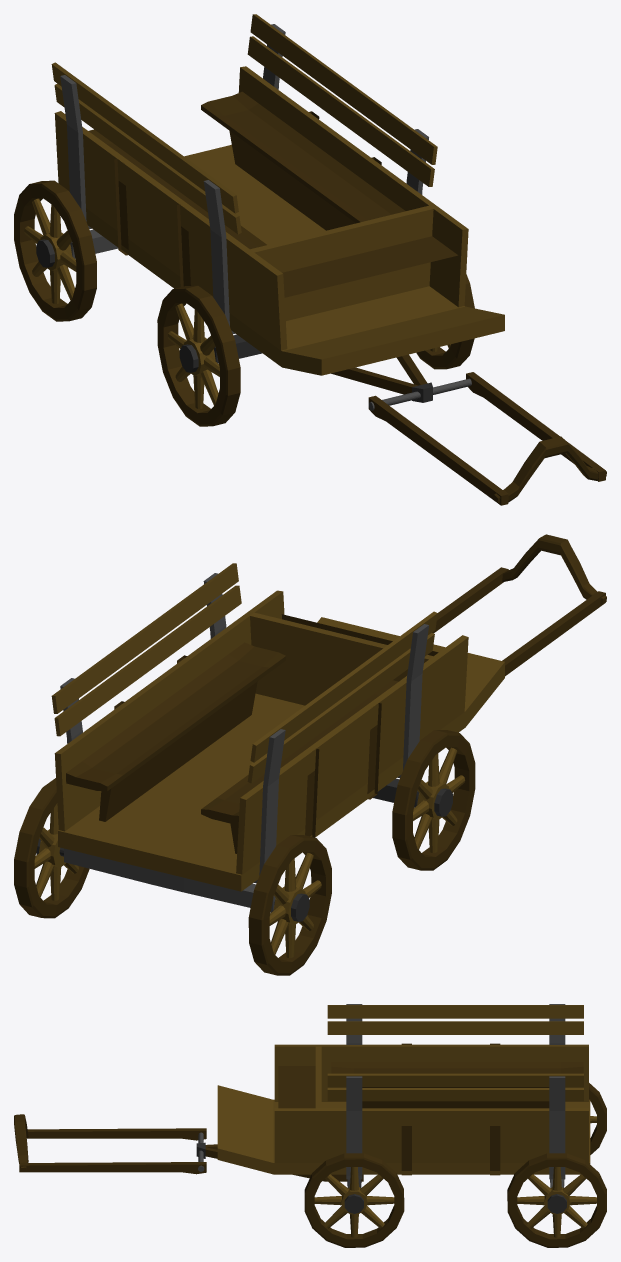
The model's file is HorseWagon.fbx.
The picture shows the model from 3 angles, top to bottom: view 1: azimuth 30°, elevation 25°; view 2: azimuth 150°, elevation 25°; view 3: azimuth 270°, elevation 25°; orthographic projection. The views are drawn at different scales.
Parts seen in each view (by area): view 1: Sides, Wagon, Bench, Rail1, Rail2, Frame.001, Frame.003, BottomFrame, SaddleFrame, FrontBench, Spokes.001, Spokes.003 (+6 smaller); view 2: Sides, Wagon, Bench, BottomFrame, Rail1, Rail2, Frame.001, Frame.003, Frame.004, SaddleFrame, Spokes.003, Spokes.001 (+5 smaller); view 3: Sides, Wagon, Rail1, Rail2, Bench, SaddleFrame, Frame.002, Frame.004, BottomFrame, Spokes.004, Spokes.002, FrontBench (+5 smaller).
Part boxes in pixels (x1,y1,x2,y2): Sides: (54, 66, 468, 350); Wagon: (86, 144, 504, 375); Bench: (88, 91, 405, 249); Rail1: (51, 14, 437, 213); Rail2: (54, 36, 434, 234); Frame.001: (157, 285, 240, 426); Frame.003: (14, 180, 96, 321); BottomFrame: (60, 24, 428, 333); SaddleFrame: (368, 372, 605, 505); FrontBench: (282, 236, 457, 297); Spokes.001: (167, 303, 219, 408); Spokes.003: (24, 198, 76, 303); Sides: (54, 590, 468, 874); Wagon: (58, 617, 504, 891); Bench: (66, 642, 398, 853); BottomFrame: (60, 573, 428, 912); Rail1: (51, 563, 437, 762); Rail2: (54, 585, 434, 783); Frame.001: (392, 730, 475, 870); Frame.003: (248, 835, 331, 975); Frame.004: (14, 778, 89, 918); SaddleFrame: (432, 567, 605, 676); Spokes.003: (269, 852, 321, 958); Spokes.001: (413, 747, 465, 852); Sides: (274, 1044, 588, 1162); Wagon: (217, 1085, 590, 1174); Rail1: (327, 1005, 583, 1086); Rail2: (327, 1021, 583, 1101); Bench: (331, 1062, 583, 1108); SaddleFrame: (19, 1128, 206, 1174); Frame.002: (304, 1153, 404, 1247); Frame.004: (507, 1153, 606, 1247); BottomFrame: (346, 1004, 565, 1187); Spokes.004: (517, 1167, 596, 1237); Spokes.002: (314, 1167, 394, 1237); FrontBench: (278, 1066, 315, 1108).
Size of the model in its own units: 2.11 by 1.82 by 5.9.
